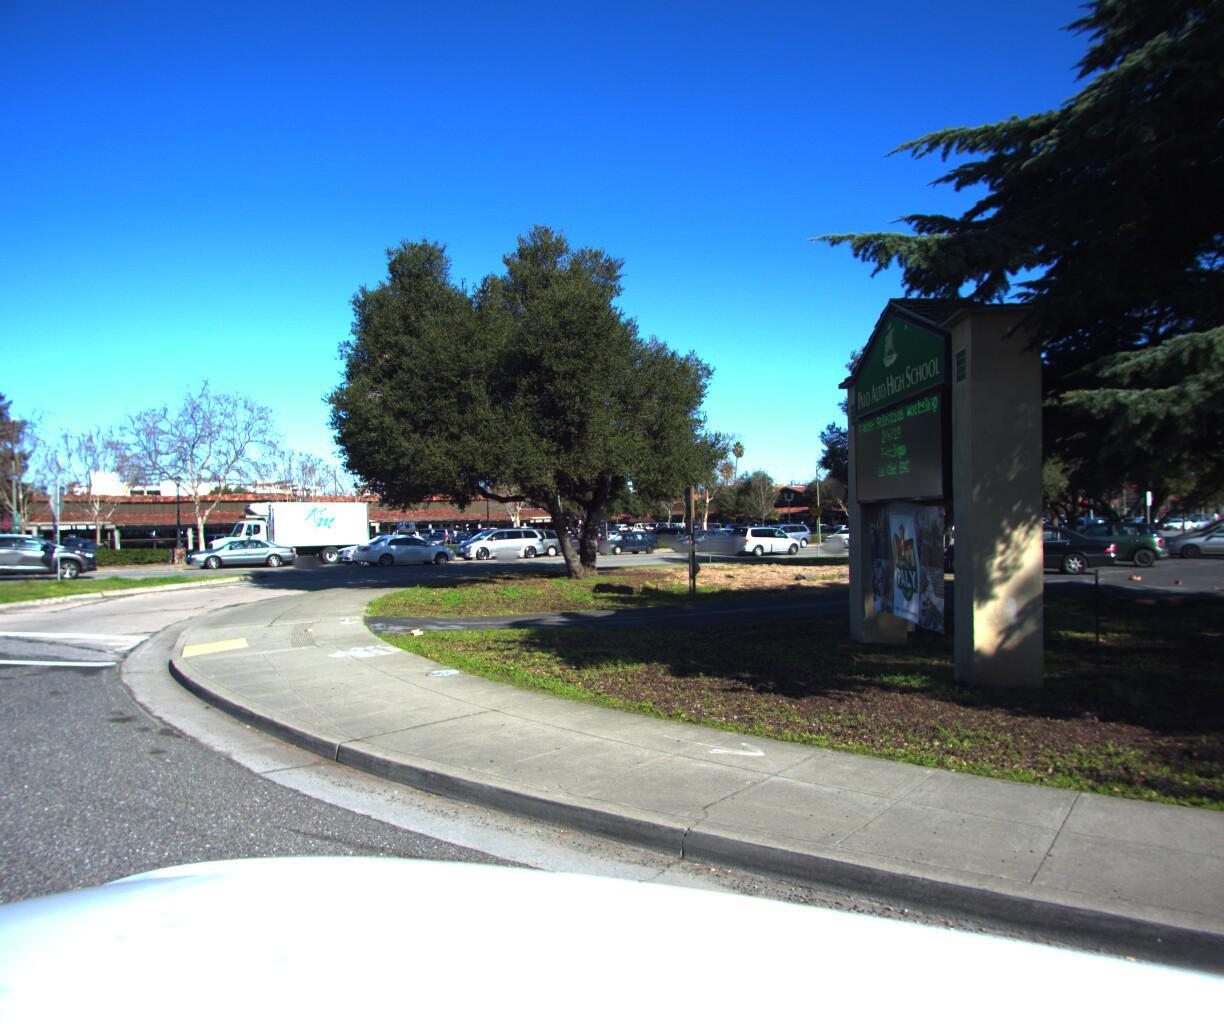car: (182, 530, 299, 563), (350, 528, 458, 563), (449, 518, 546, 555), (333, 526, 435, 558), (722, 517, 805, 551), (585, 523, 663, 550), (740, 517, 814, 543), (665, 523, 739, 546), (649, 518, 711, 539)
truck: (209, 486, 380, 557)
